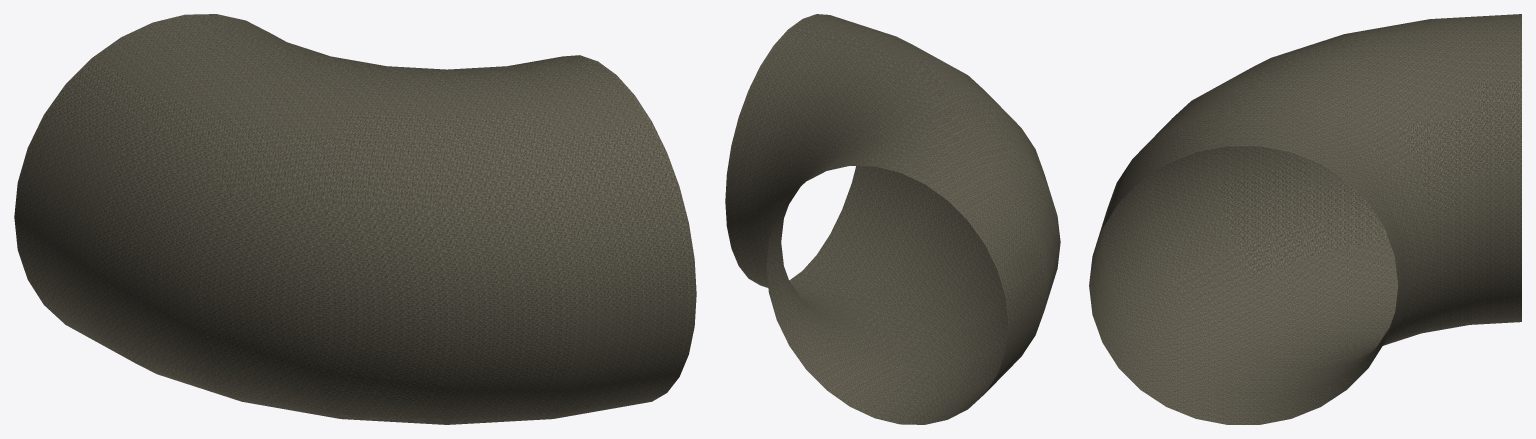
The model's file is Pipe_turn.obj.
The picture shows the model from 3 angles, left to right: view 1: azimuth 30°, elevation 25°; view 2: azimuth 150°, elevation 25°; view 3: azimuth 270°, elevation 25°; orthographic projection. The views are drawn at different scales.
Parts seen in each view (by area): view 1: Pipe_turn; view 2: Pipe_turn; view 3: Pipe_turn.
Boxes of the visible parts, left/top/right/bottom form: Pipe_turn: left=14, top=14, right=696, bottom=424; Pipe_turn: left=725, top=14, right=1060, bottom=424; Pipe_turn: left=1089, top=14, right=1521, bottom=424.
Bounding box in the file's own units: 14 × 9.95 × 14.
